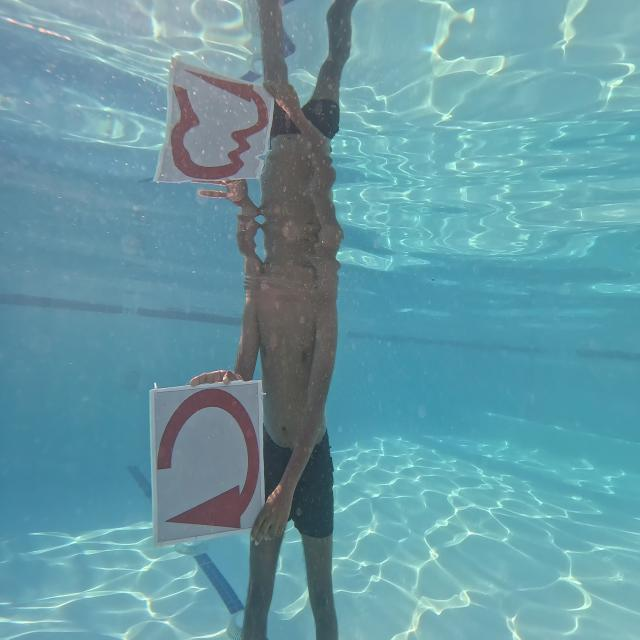red_side: (154, 392, 272, 543)
